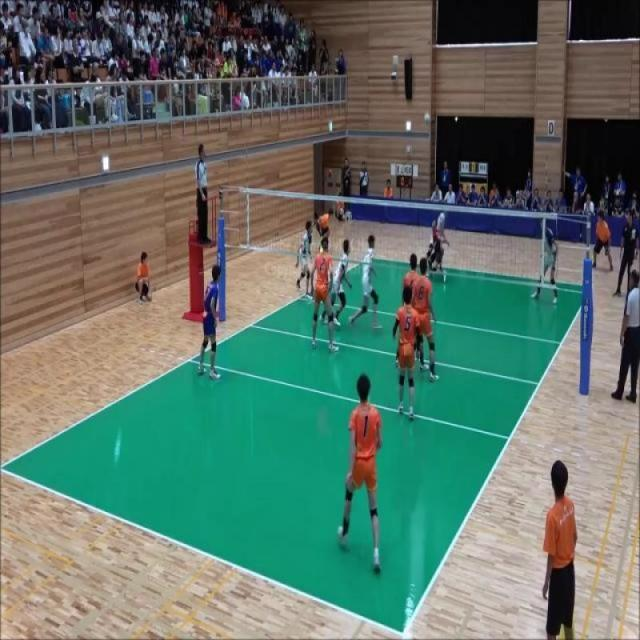volleyball: (424, 112, 432, 128), (340, 207, 342, 215)
